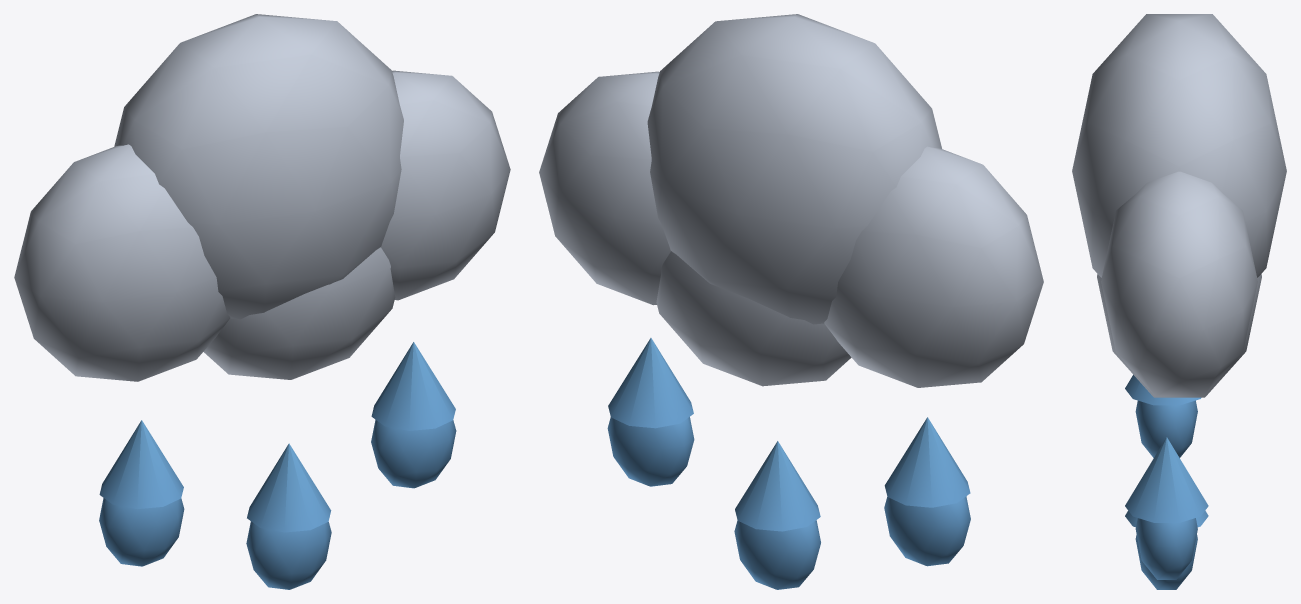
The model's file is ui_rain.glb.
3 views of the same model, side by side, from view 1: azimuth 30°, elevation 25°; view 2: azimuth 150°, elevation 25°; view 3: azimuth 270°, elevation 25° (orthographic). The views are drawn at different scales.
Visible parts, largest first — view 1: body; view 2: body; view 3: body.
Boxes of the visible parts, x1,y1,x2,y2 form: body: (14,14,510,589); body: (539,14,1043,589); body: (1072,14,1286,589).
Bounding box in the file's own units: 0.4155 × 0.4837 × 0.169.
